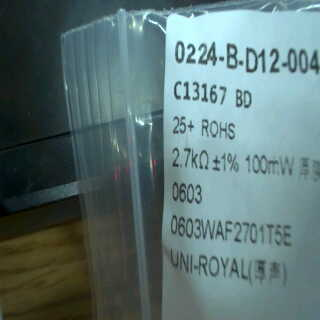2.7kR: (168, 143, 211, 174)
